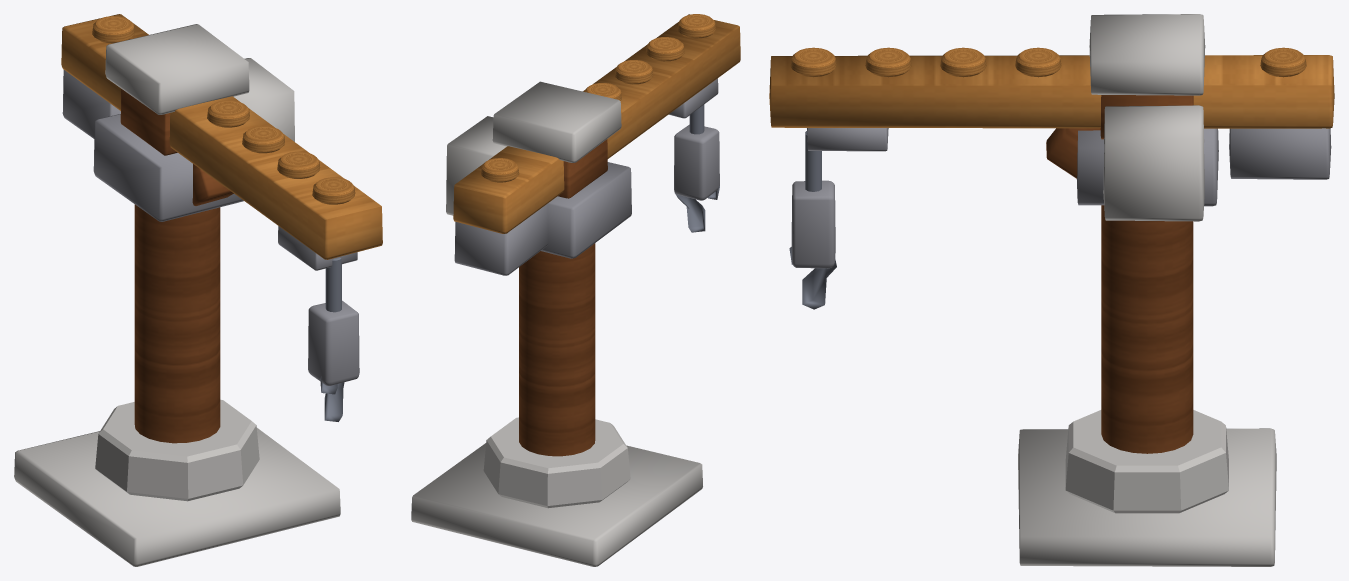
The model's file is 08_crane.glb.
The picture shows the model from 3 angles, left to right: view 1: azimuth 30°, elevation 25°; view 2: azimuth 150°, elevation 25°; view 3: azimuth 270°, elevation 25°; orthographic projection. The views are drawn at different scales.
Parts seen in each view (by area): view 1: BaseSlab, MastColumn, BoomBeam, BaseCollar, TopCap, TurretBase, PulleyBlock, SideHousing, CounterWeight, CenterNeck, Trolley, BoomStud_32 (+7 smaller); view 2: BaseSlab, MastColumn, BoomBeam, BaseCollar, TopCap, TurretBase, CounterWeight, PulleyBlock, SideHousing, CenterNeck, BoomStud_-40, BoomStud_76 (+5 smaller); view 3: BoomBeam, BaseSlab, MastColumn, BaseCollar, SideHousing, TopCap, CounterWeight, PulleyBlock, TurretBase, Trolley, BoomBrace, CenterNeck (+7 smaller).
Boxes of the visible parts, x1,y1,x2,y2 form: BaseSlab: (14, 427, 340, 566); MastColumn: (134, 204, 220, 443); BoomBeam: (61, 14, 382, 259); BaseCollar: (95, 399, 259, 501); TopCap: (105, 24, 249, 114); TurretBase: (93, 114, 243, 221); PulleyBlock: (308, 300, 359, 385); SideHousing: (234, 58, 294, 141); CounterWeight: (62, 70, 120, 138); CenterNeck: (120, 89, 177, 155); Trolley: (278, 226, 357, 270); BoomStud_32: (207, 100, 249, 127); BaseSlab: (411, 443, 702, 566); MastColumn: (519, 243, 595, 456); BoomBeam: (453, 14, 740, 233); BaseCollar: (483, 417, 630, 508); TopCap: (492, 81, 621, 162); TurretBase: (541, 162, 631, 258); CounterWeight: (454, 204, 548, 275); PulleyBlock: (674, 124, 719, 200); SideHousing: (446, 116, 506, 215); CenterNeck: (558, 139, 607, 198); BoomStud_-40: (481, 158, 519, 182); BoomStud_76: (646, 37, 684, 61); BoomBeam: (769, 55, 1334, 128); BaseSlab: (1018, 428, 1276, 566); MastColumn: (1101, 205, 1193, 453); BaseCollar: (1065, 410, 1228, 513); SideHousing: (1103, 105, 1204, 221); TopCap: (1089, 14, 1205, 95); CounterWeight: (1229, 128, 1331, 179); PulleyBlock: (791, 180, 835, 268); TurretBase: (1076, 128, 1218, 206); Trolley: (807, 128, 888, 151); BoomBrace: (1046, 128, 1100, 178); CenterNeck: (1100, 95, 1193, 139).
Size of the model in its own units: 0.76 by 1.55 by 1.66.
Materials: 5 (2 with a texture image).
